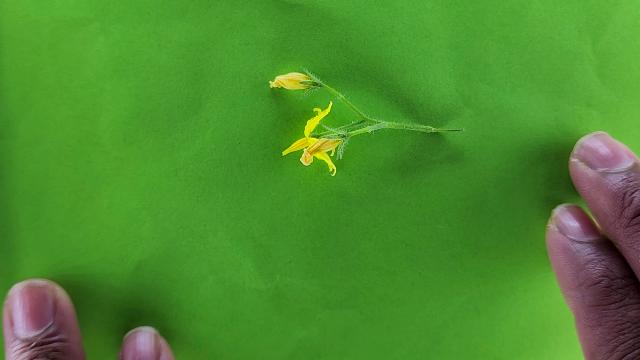Anthesis: (279, 101, 341, 175), (269, 72, 324, 98)
